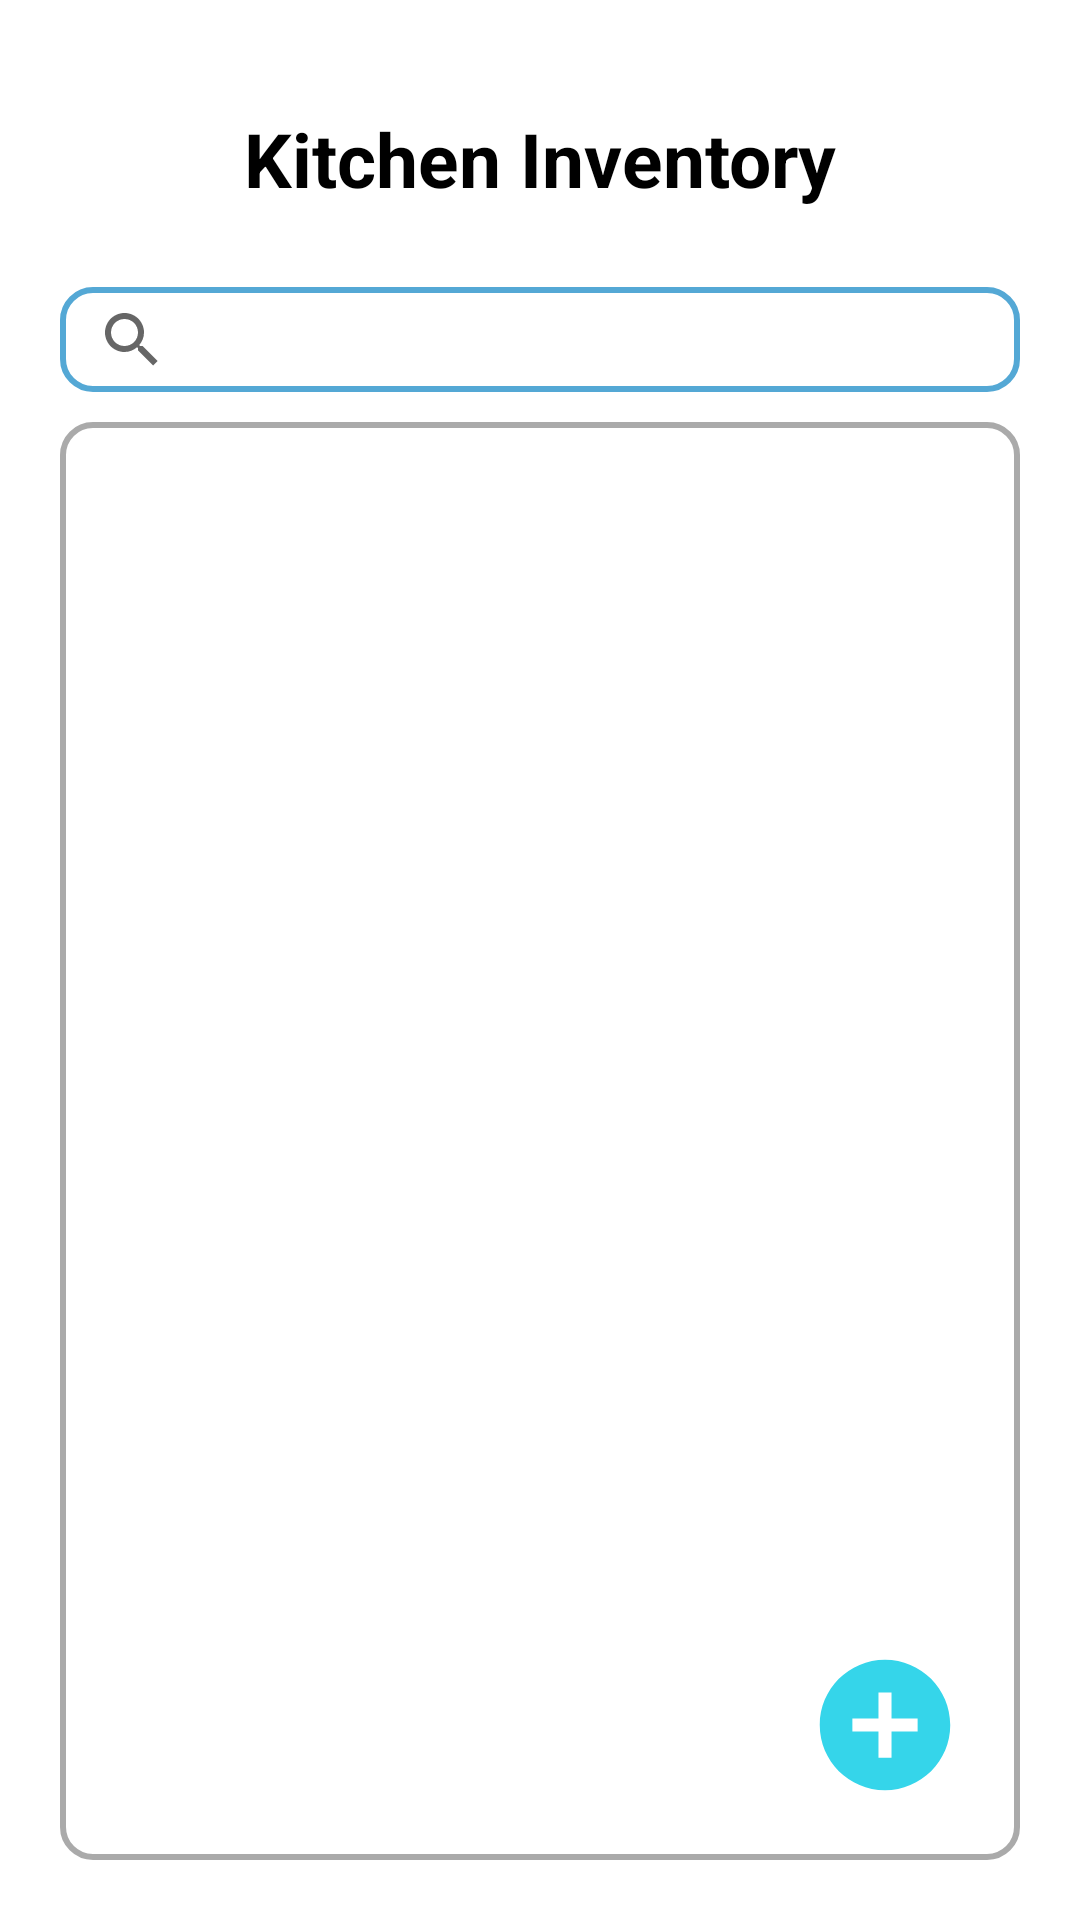

Named icons in this screenshot (1080px×1920px) and their bounding boxes, (x1, y1, x2, y2):
add: (819, 1659, 951, 1791)
